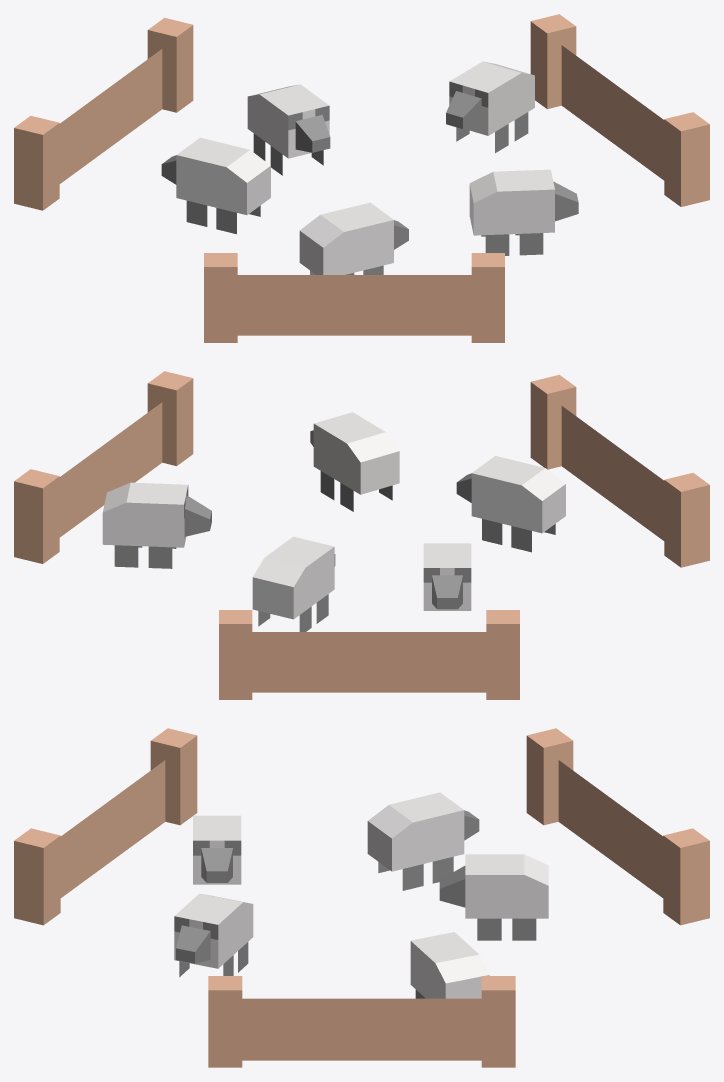
The model's file is Corrallvl2.fbx.
3 views of the same model, one above another, from view 1: azimuth 30°, elevation 25°; view 2: azimuth 150°, elevation 25°; view 3: azimuth 270°, elevation 25° (orthographic). The views are drawn at different scales.
Visible parts, largest first — view 1: Fence3, Fence2, Fence1, Sheep1, Sheep4, Sheep3, Sheep5, Sheep2; view 2: Fence2, Fence3, Fence1, Sheep5, Sheep3, Sheep4, Sheep2, Sheep1; view 3: Fence1, Fence3, Fence2, Sheep1, Sheep2, Sheep4, Sheep5, Sheep3.
Boxes of the visible parts, x1=… form: Fence3: x1=204, y1=253, x2=504, y2=342; Fence2: x1=14, y1=17, x2=193, y2=210; Fence1: x1=530, y1=14, x2=709, y2=206; Sheep1: x1=161, y1=137, x2=270, y2=234; Sheep4: x1=469, y1=169, x2=578, y2=255; Sheep3: x1=299, y1=202, x2=408, y2=274; Sheep5: x1=446, y1=61, x2=534, y2=153; Sheep2: x1=247, y1=84, x2=330, y2=175; Fence2: x1=219, y1=610, x2=519, y2=699; Fence3: x1=530, y1=374, x2=709, y2=567; Fence1: x1=14, y1=371, x2=193, y2=563; Sheep5: x1=102, y1=482, x2=211, y2=568; Sheep3: x1=456, y1=456, x2=565, y2=552; Sheep4: x1=310, y1=412, x2=399, y2=511; Sheep2: x1=252, y1=536, x2=335, y2=631; Sheep1: x1=423, y1=543, x2=471, y2=610; Fence1: x1=208, y1=976, x2=515, y2=1067; Fence3: x1=14, y1=728, x2=197, y2=925; Fence2: x1=526, y1=728, x2=709, y2=925; Sheep1: x1=367, y1=792, x2=479, y2=890; Sheep2: x1=439, y1=854, x2=548, y2=940; Sheep4: x1=174, y1=893, x2=253, y2=977; Sheep5: x1=410, y1=932, x2=489, y2=998; Sheep3: x1=193, y1=815, x2=241, y2=884.
Size of the model in its own units: 90.74 by 12.5 by 102.
